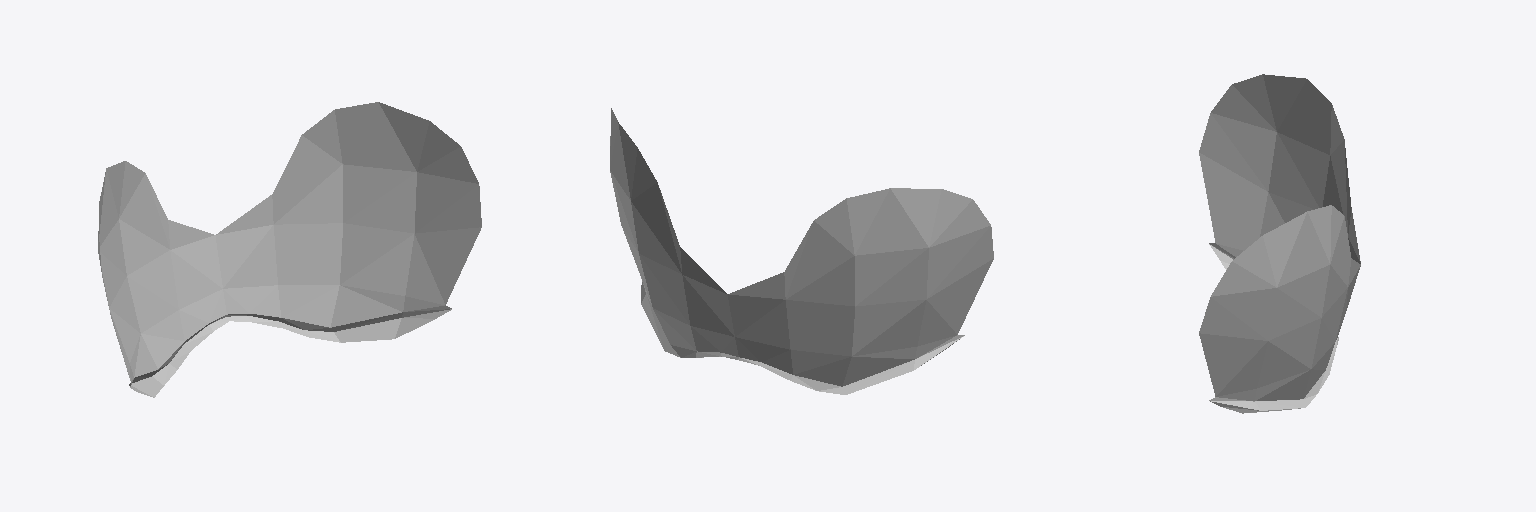
Rendered from Eyelids 4.obj.
The picture shows the model from 3 angles: view 1: azimuth 30°, elevation 25°; view 2: azimuth 150°, elevation 25°; view 3: azimuth 270°, elevation 25°; orthographic projection.
Parts seen in each view (by area): view 1: undefined; view 2: undefined; view 3: undefined.
Boxes of the visible parts, <box> form: undefined: <box>98,102,481,397</box>; undefined: <box>610,108,993,394</box>; undefined: <box>1199,74,1360,413</box>.
Size of the model in its own units: 29.7 by 16.69 by 11.06.